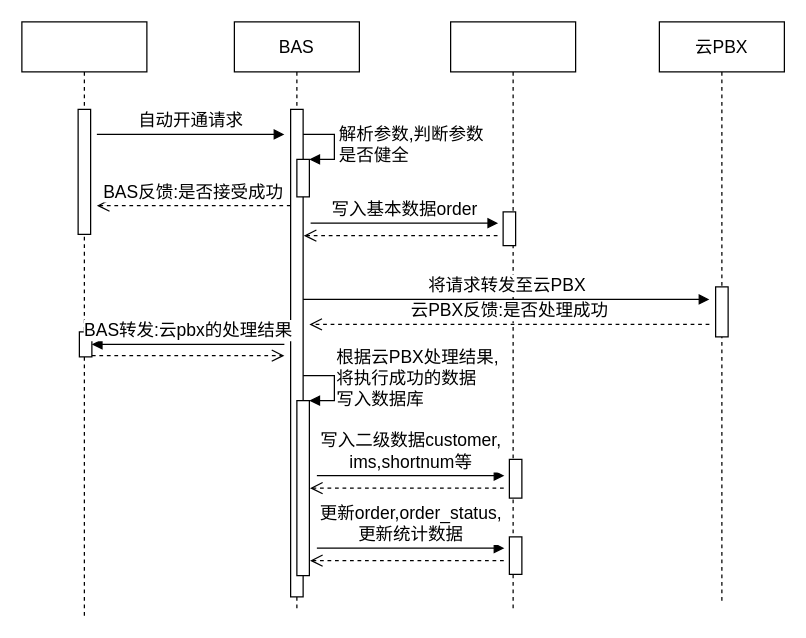
Image size: 806x638. Some labels were removed from this diagram. The centre of each missing label's shape, as x and y in pixels:
"BOSS" belongs at (84,318).
"DB" belongs at (512,315).
